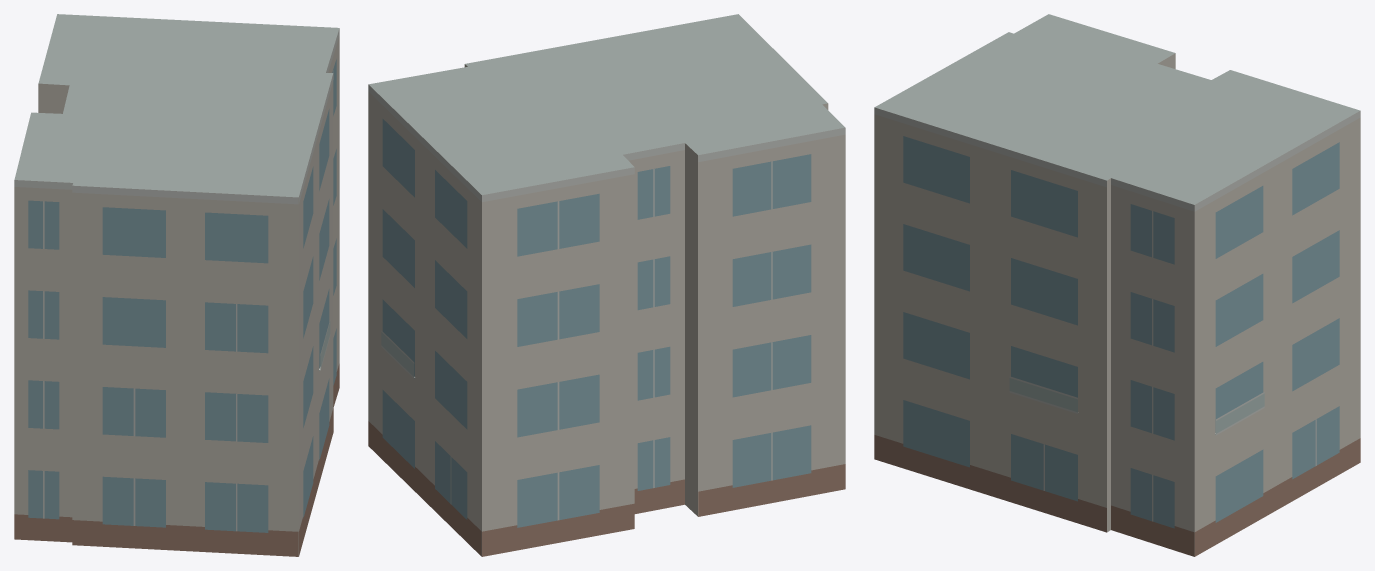
Rendered from survey-upis-32656900.glb.
3 views of the same model, side by side, from view 1: azimuth 30°, elevation 25°; view 2: azimuth 150°, elevation 25°; view 3: azimuth 270°, elevation 25° (orthographic). The views are drawn at different scales.
Visible parts, largest first — view 1: survey-upis-32656900.tmp; view 2: survey-upis-32656900.tmp; view 3: survey-upis-32656900.tmp.
Part boxes in pixels (bbox=[...]): survey-upis-32656900.tmp: bbox=[14, 14, 339, 556]; survey-upis-32656900.tmp: bbox=[368, 14, 845, 556]; survey-upis-32656900.tmp: bbox=[874, 14, 1360, 556].
Size of the model in its own units: 14.67 by 12.6 by 15.79.
